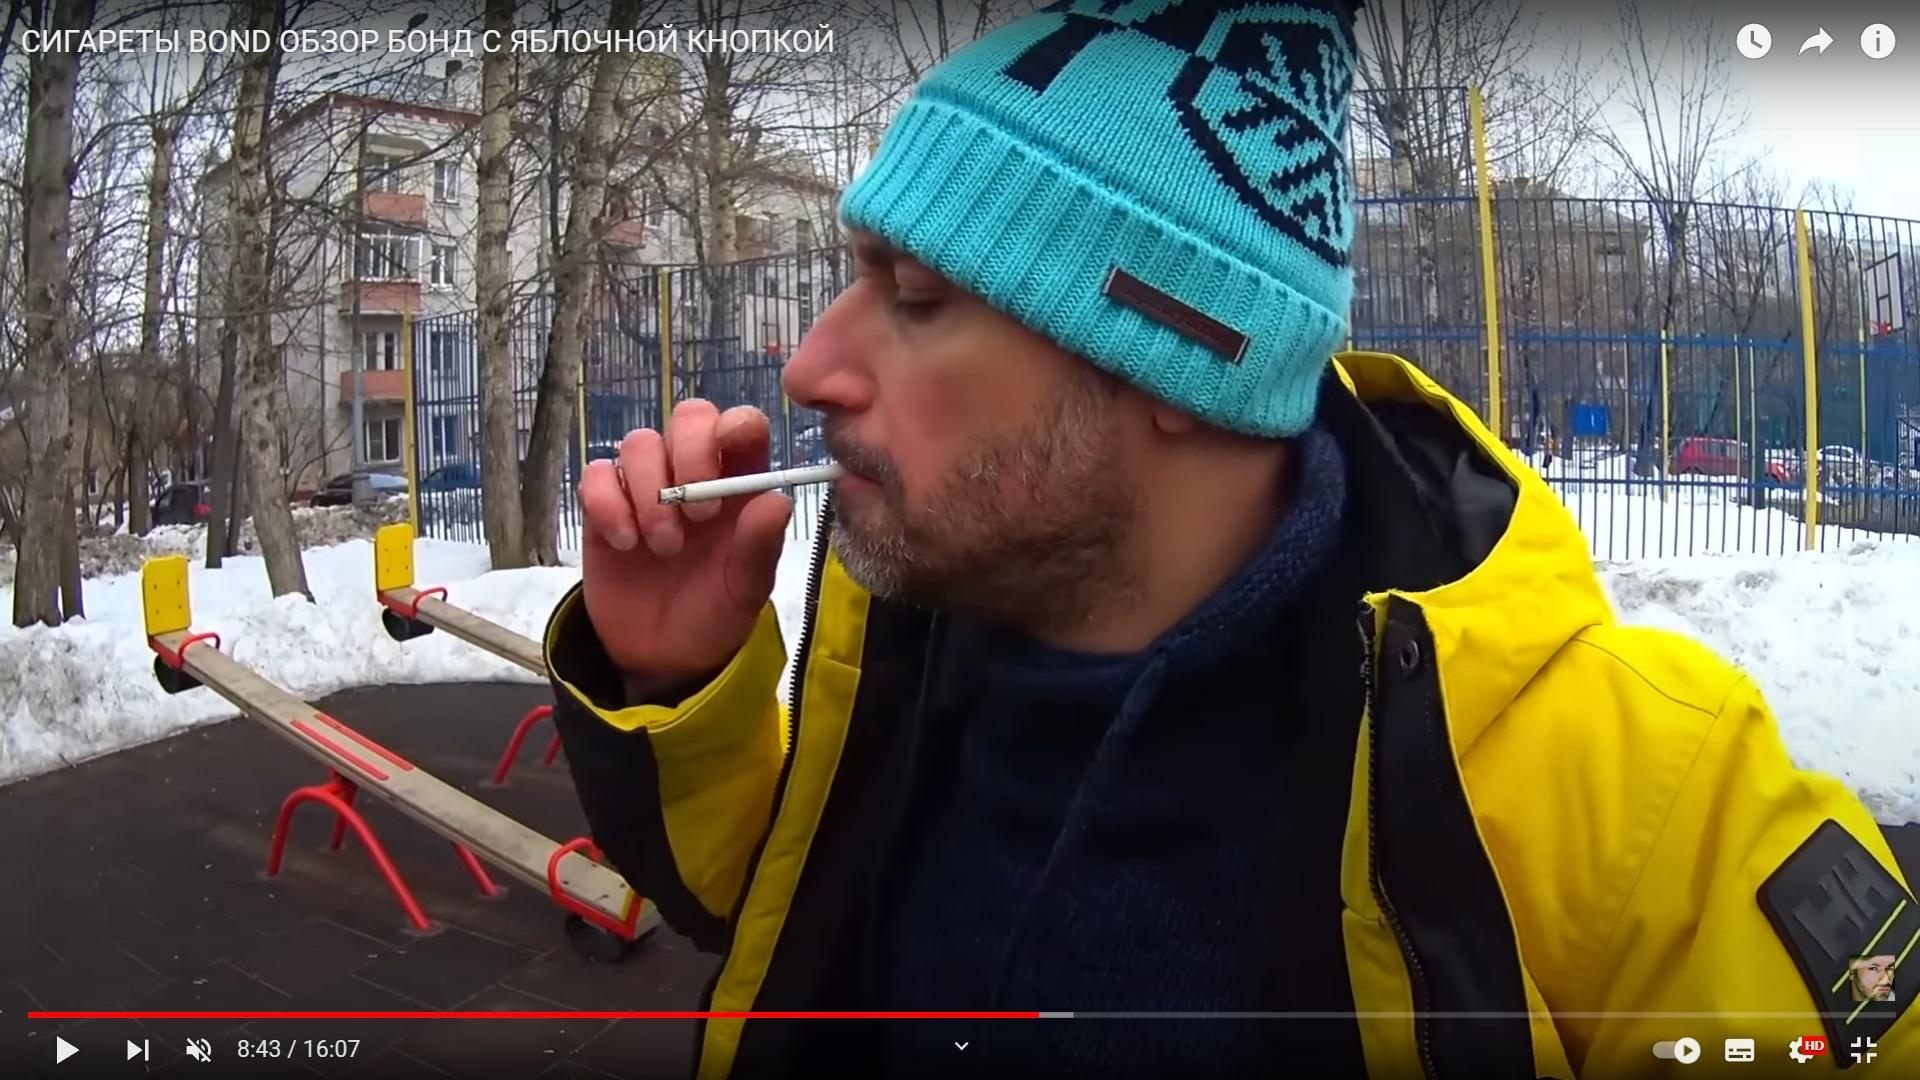cigarette: (657, 463, 856, 506)
